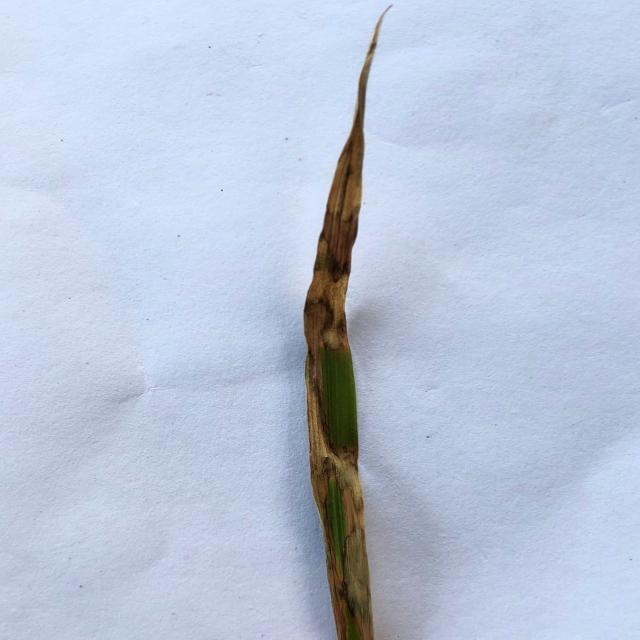leaf blight: (300, 356, 380, 640), (307, 125, 363, 355)
